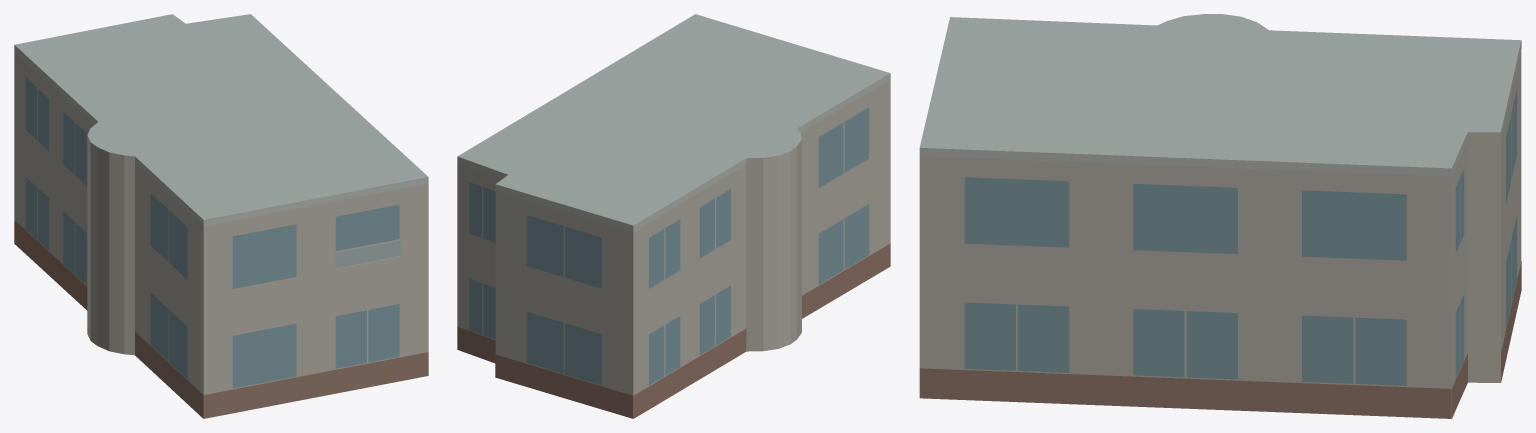
Rendered from survey-upis-32634944.glb.
The picture shows the model from 3 angles, left to right: view 1: azimuth 30°, elevation 25°; view 2: azimuth 150°, elevation 25°; view 3: azimuth 270°, elevation 25°; orthographic projection. The views are drawn at different scales.
Parts seen in each view (by area): view 1: survey-upis-32634944.tmp; view 2: survey-upis-32634944.tmp; view 3: survey-upis-32634944.tmp.
Boxes of the visible parts, bbox=[...] form: survey-upis-32634944.tmp: bbox=[14, 14, 428, 418]; survey-upis-32634944.tmp: bbox=[457, 14, 890, 418]; survey-upis-32634944.tmp: bbox=[919, 14, 1521, 418].
Size of the model in its own units: 9.93 by 7.5 by 16.34.
